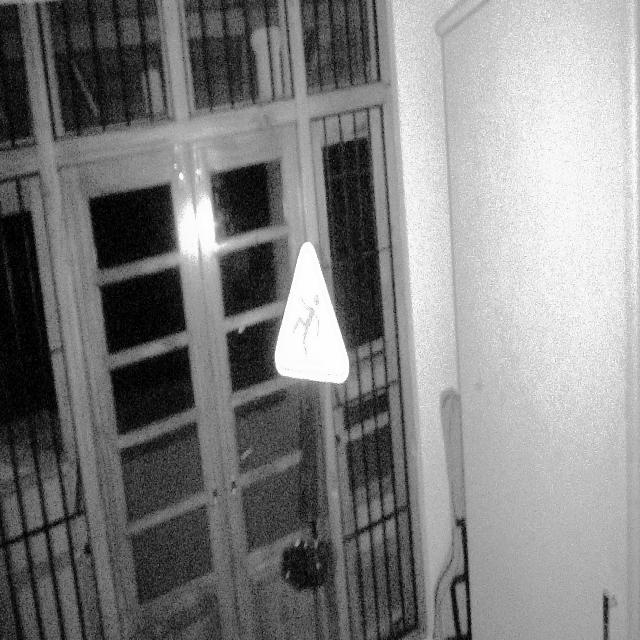Sign: (274, 241, 352, 386)
